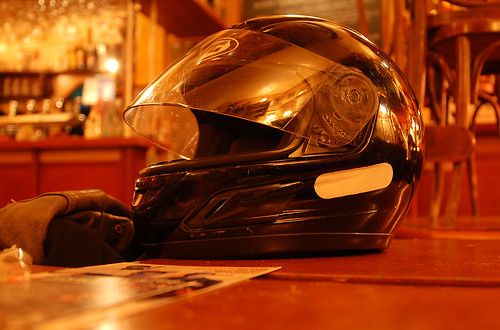helmet: (121, 0, 427, 259)
